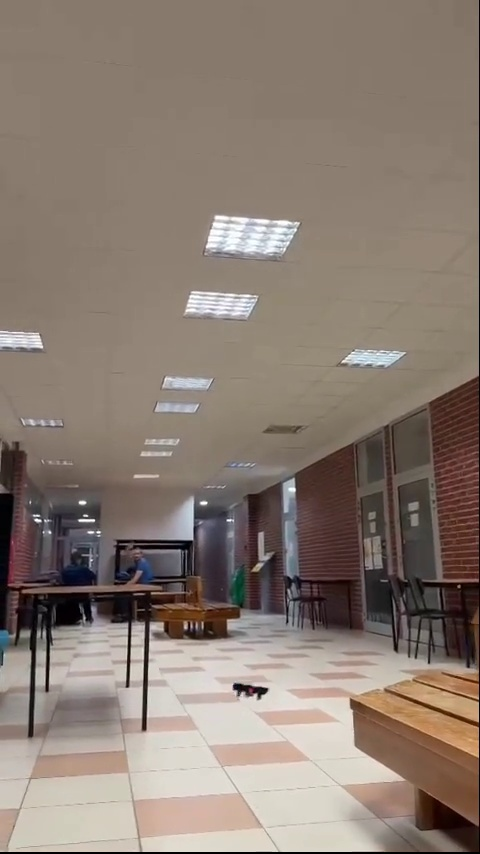drone: (232, 682, 268, 700)
no vest: (57, 547, 98, 596), (122, 542, 152, 593)
